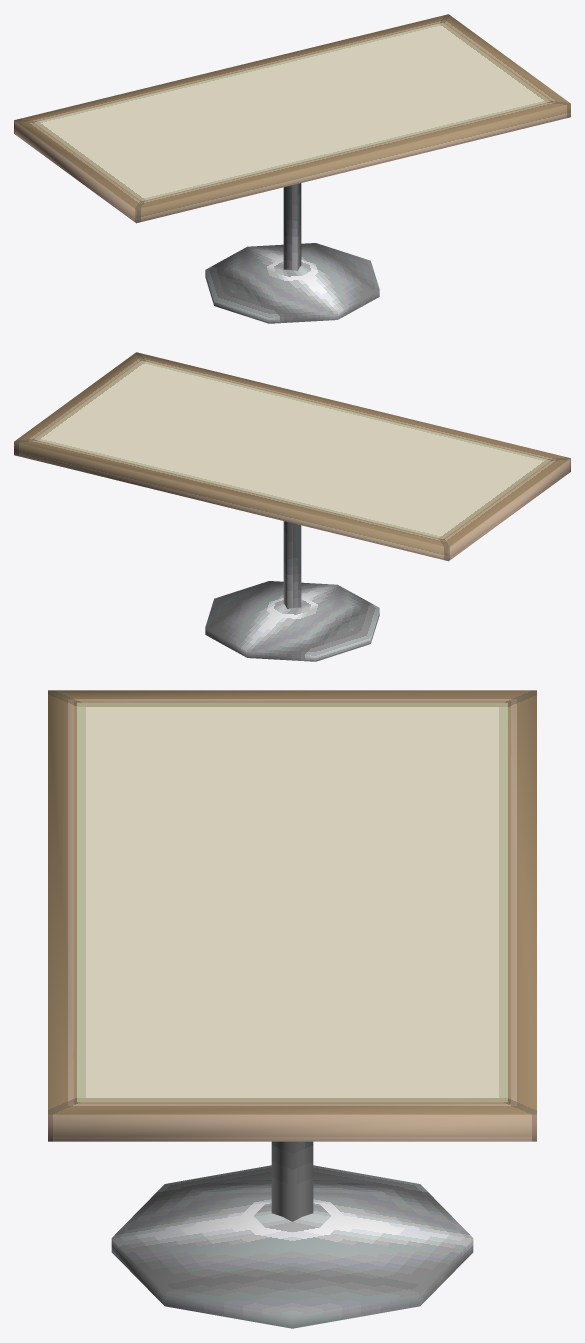
The picture shows the model from 3 angles, top to bottom: view 1: azimuth 30°, elevation 25°; view 2: azimuth 150°, elevation 25°; view 3: azimuth 270°, elevation 25°; orthographic projection. The views are drawn at different scales.
Visible parts, largest first — view 1: 3334IMIG11_03; view 2: 3334IMIG11_03; view 3: 3334IMIG11_03.
Boxes of the visible parts, bbox=[...] form: 3334IMIG11_03: bbox=[14, 14, 570, 323]; 3334IMIG11_03: bbox=[14, 352, 570, 661]; 3334IMIG11_03: bbox=[48, 690, 536, 1328].
Size of the model in its own units: 1.95 by 0.75 by 0.9502.
3 materials, 3 textured.
